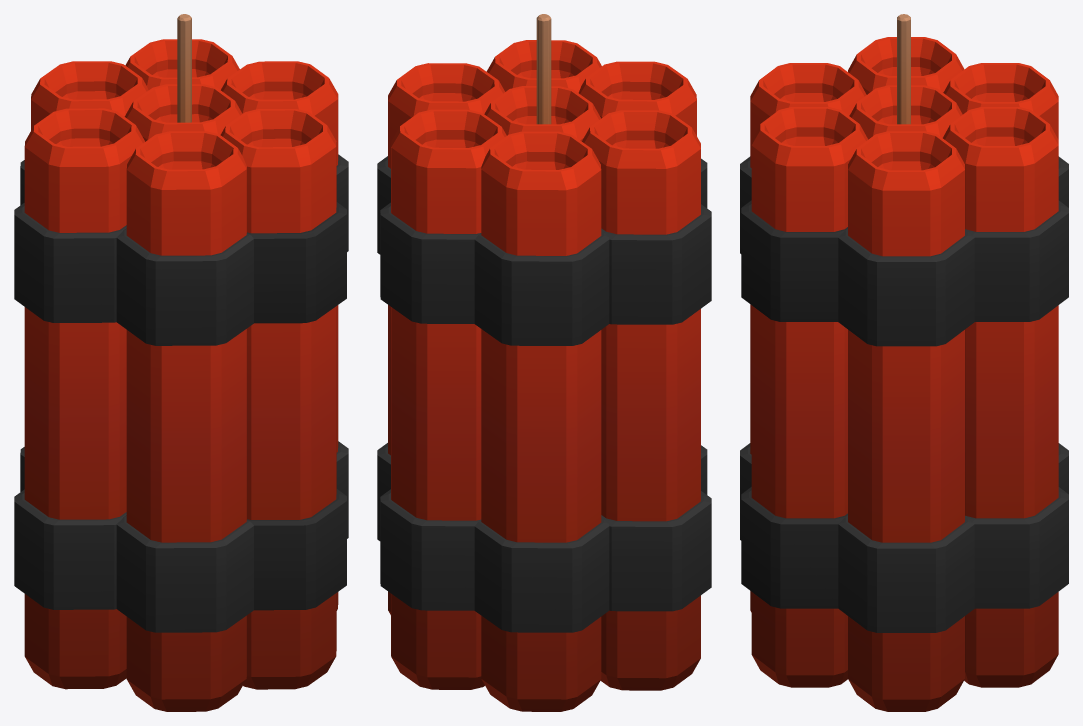
File: Dynamite.glb
The picture shows the model from 3 angles, left to right: view 1: azimuth 30°, elevation 25°; view 2: azimuth 150°, elevation 25°; view 3: azimuth 270°, elevation 25°; orthographic projection.
Parts seen in each view (by area): view 1: _6d03272fba046e1aa0d331245736e81_obj_cleaner_materialmerger_; view 2: _6d03272fba046e1aa0d331245736e81_obj_cleaner_materialmerger_; view 3: _6d03272fba046e1aa0d331245736e81_obj_cleaner_materialmerger_.
Boxes of the visible parts, x1=… form: _6d03272fba046e1aa0d331245736e81_obj_cleaner_materialmerger_: x1=14, y1=14, x2=348, y2=711; _6d03272fba046e1aa0d331245736e81_obj_cleaner_materialmerger_: x1=377, y1=14, x2=711, y2=711; _6d03272fba046e1aa0d331245736e81_obj_cleaner_materialmerger_: x1=740, y1=14, x2=1068, y2=711.
Size of the model in its own units: 1.52 by 3 by 1.42.
Materials: 2 (1 with a texture image).
